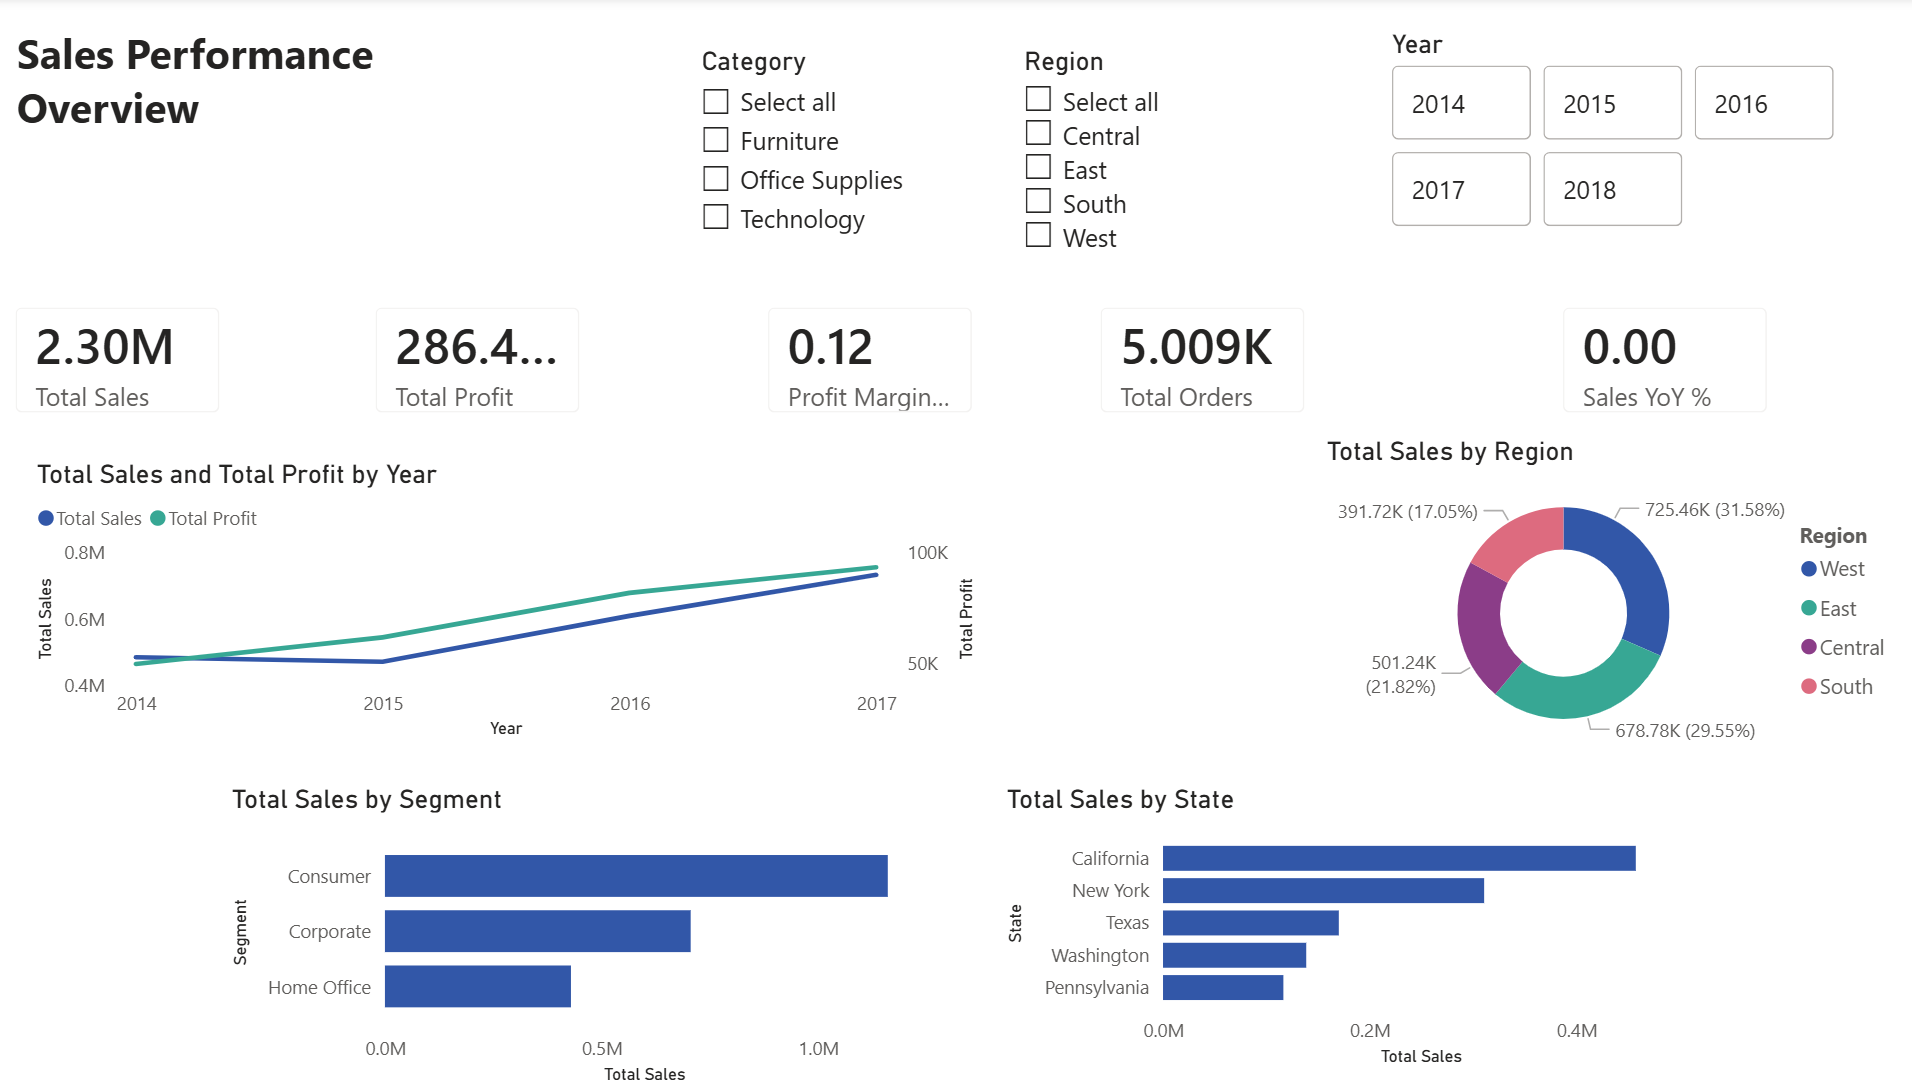

This screenshot's page, from the dashboard's own definition file:
{"tool":"powerbi","page":{"name":"Executive Overview","canvas":[1280,720],"ordinal":0},"visuals":[{"type":"cardVisual","fields":{"Data":["Date.Total Sales"]},"box":[29,184.1,166.7,102.9],"z":0},{"type":"cardVisual","fields":{"Data":["Date.Total Profit"]},"box":[262.3,184.1,166.7,102],"z":1000},{"type":"cardVisual","fields":{"Data":["Date.Total Orders"]},"box":[731.9,184,166.7,102],"z":2000},{"type":"cardVisual","fields":{"Data":["Date.Profit Margin %"]},"box":[515.9,184,166.7,102],"z":3000},{"type":"cardVisual","fields":{"Data":["Date.Sales YoY %"]},"box":[1030.4,184.1,166.7,102],"z":4000},{"type":"lineChart","fields":{"Category":["Date.Year"],"Y":["Date.Total Sales"],"Y2":["Date.Total Profit"]},"box":[55.1,300,617.4,185.5],"z":5000},{"type":"actionButton","box":[0,0,100,40],"z":6000},{"type":"advancedSlicerVisual","fields":{"Values":["Date.Year"]},"box":[931.9,20.3,297.1,134.8],"z":7000},{"type":"listSlicer","fields":{"Values":["Sample - Superstore.Category"]},"box":[485.5,31.9,176.8,153.6],"z":8000},{"type":"listSlicer","fields":{"Values":["Sample - Superstore.Region"]},"box":[694.2,31.9,181.2,142],"z":9000},{"type":"donutChart","fields":{"Category":["Sample - Superstore.Region"],"Y":["Date.Total Sales"]},"box":[889.9,285.5,381.2,210.1],"z":10000},{"type":"barChart","fields":{"Y":["Date.Total Sales"],"Category":["Sample - Superstore.Segment"]},"box":[181.2,510.1,459.4,198.6],"z":11000},{"type":"barChart","fields":{"Category":["Sample - Superstore.State"],"Y":["Date.Total Sales"]},"box":[682.6,510.1,459.4,187],"z":12000},{"type":"textbox","box":[42,13,294.2,89.9],"z":13000}]}

Visuals, with their boxes in screenshot pixels (x1, y1, x2, y2), scaled from the page's 1280x720 canvas onto the 1912x1082 screenshot:
cardVisual - Date.Total Sales: select_region(43, 277, 292, 431)
cardVisual - Date.Total Profit: select_region(392, 277, 641, 430)
cardVisual - Date.Total Orders: select_region(1093, 277, 1342, 430)
cardVisual - Date.Profit Margin %: select_region(771, 277, 1020, 430)
cardVisual - Date.Sales YoY %: select_region(1539, 277, 1788, 430)
lineChart - Date.Year x Date.Total Sales: select_region(82, 451, 1005, 730)
actionButton: select_region(0, 0, 149, 60)
advancedSlicerVisual - Date.Year: select_region(1392, 31, 1836, 233)
listSlicer - Sample - Superstore.Category: select_region(725, 48, 989, 279)
listSlicer - Sample - Superstore.Region: select_region(1037, 48, 1308, 261)
donutChart - Sample - Superstore.Region x Date.Total Sales: select_region(1329, 429, 1899, 745)
barChart - Date.Total Sales x Sample - Superstore.Segment: select_region(271, 767, 957, 1065)
barChart - Sample - Superstore.State x Date.Total Sales: select_region(1020, 767, 1706, 1048)
textbox: select_region(63, 20, 502, 155)
